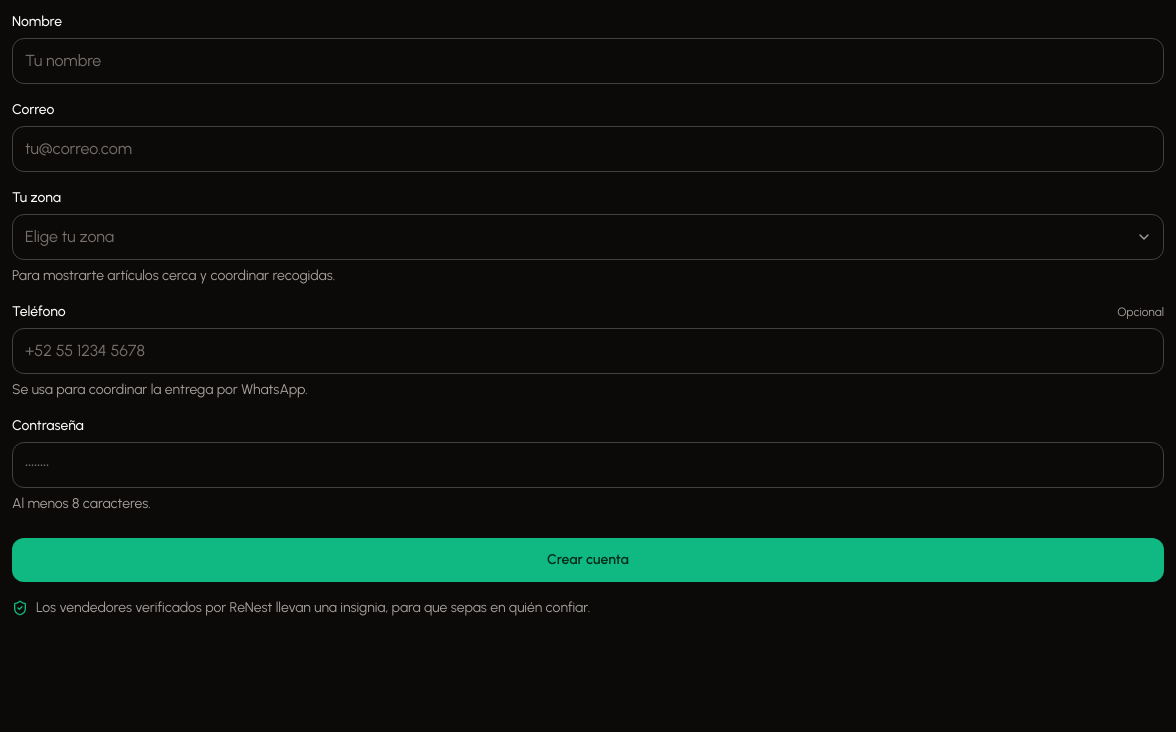
RegisterForm › shows field errors linked to their fields
Type "Camila Torres" into the field labelled "Nombre".
click(588, 61); type("Camila Torres")  # box [12, 38, 1164, 84]
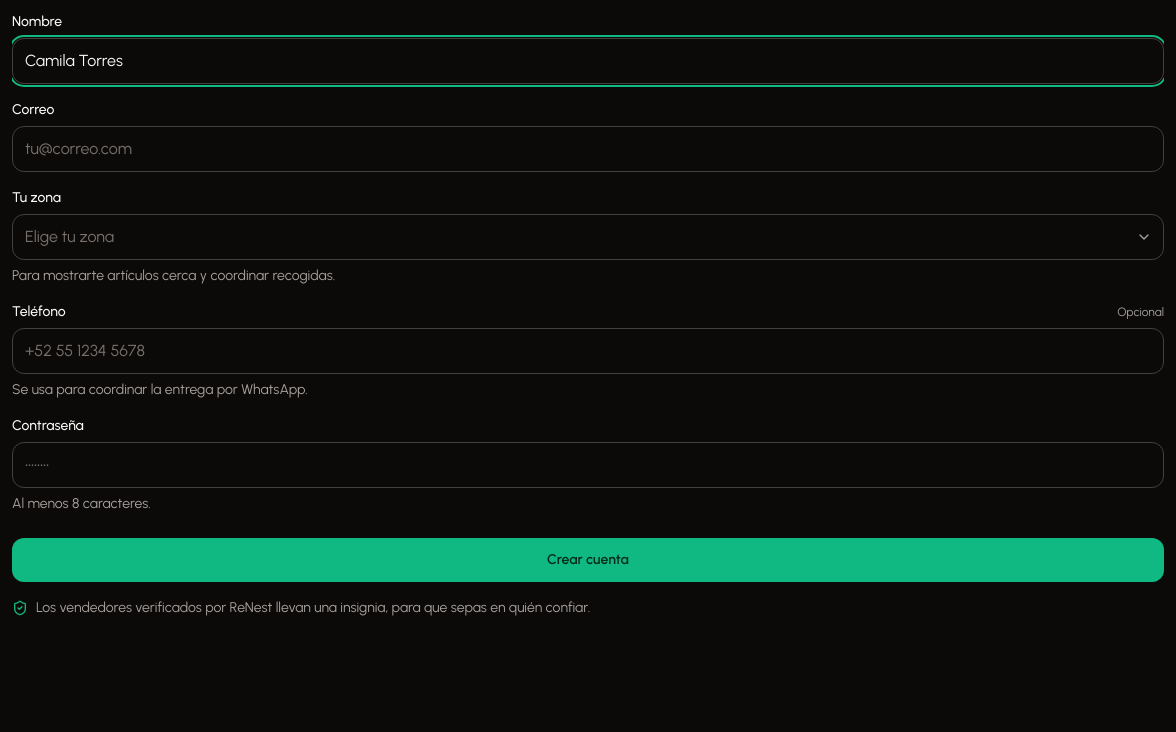
Type "camila@renest.app" into the field labelled "Correo".
click(588, 149); type("camila@renest.app")  # box [12, 126, 1164, 172]
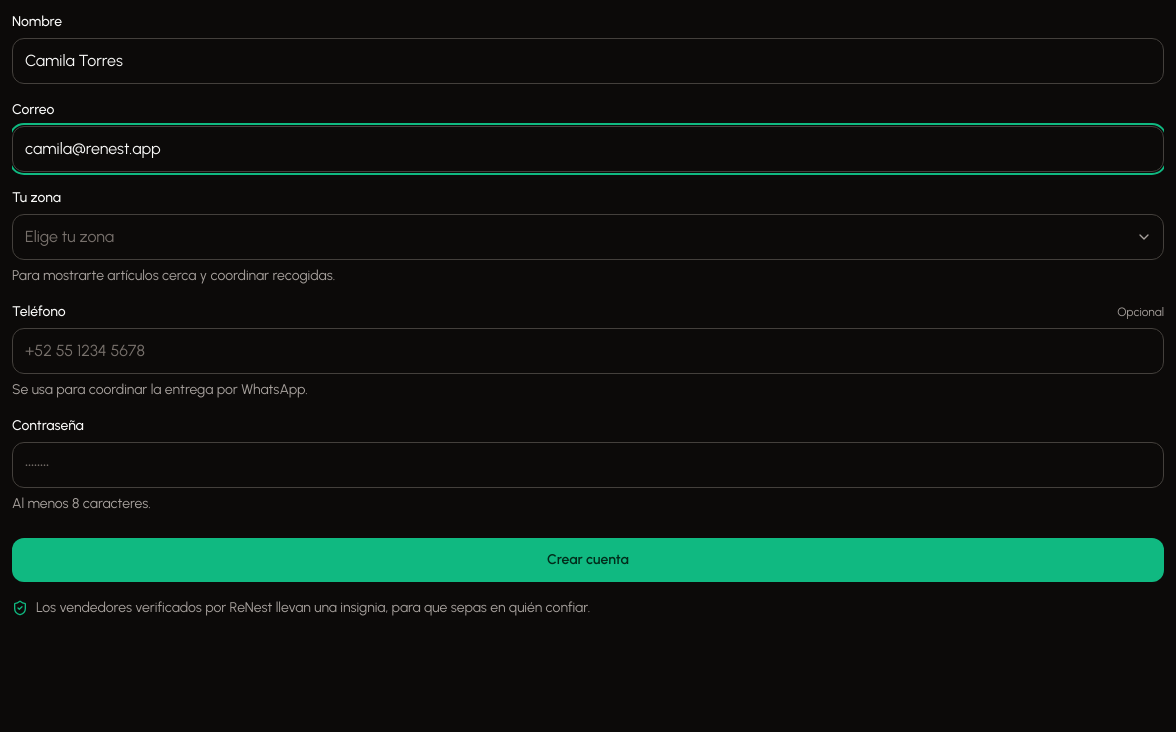
Select "Palermo, Buenos Aires" in the dropdown labelled "Tu zona" at point(588, 237), box [12, 214, 1164, 260]
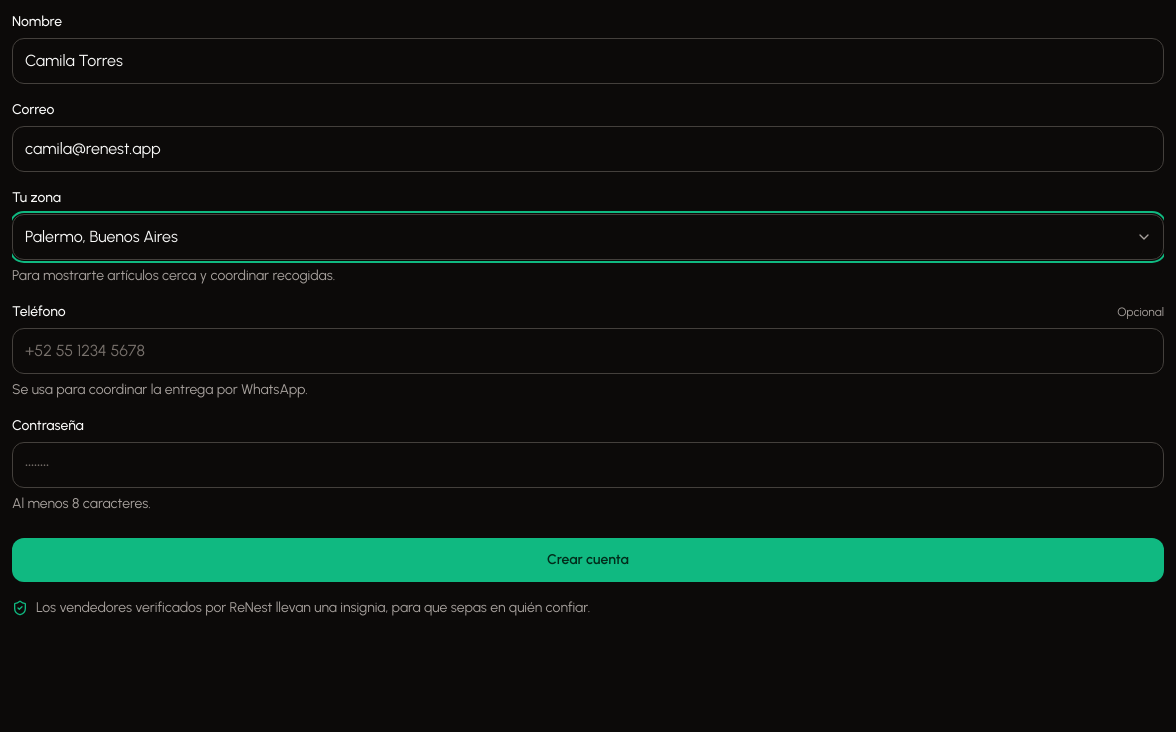
Type "+54 9 11 2345 6789" into the field labelled "Teléfono".
click(588, 351); type("+54 9 11 2345 6789")  # box [12, 328, 1164, 374]
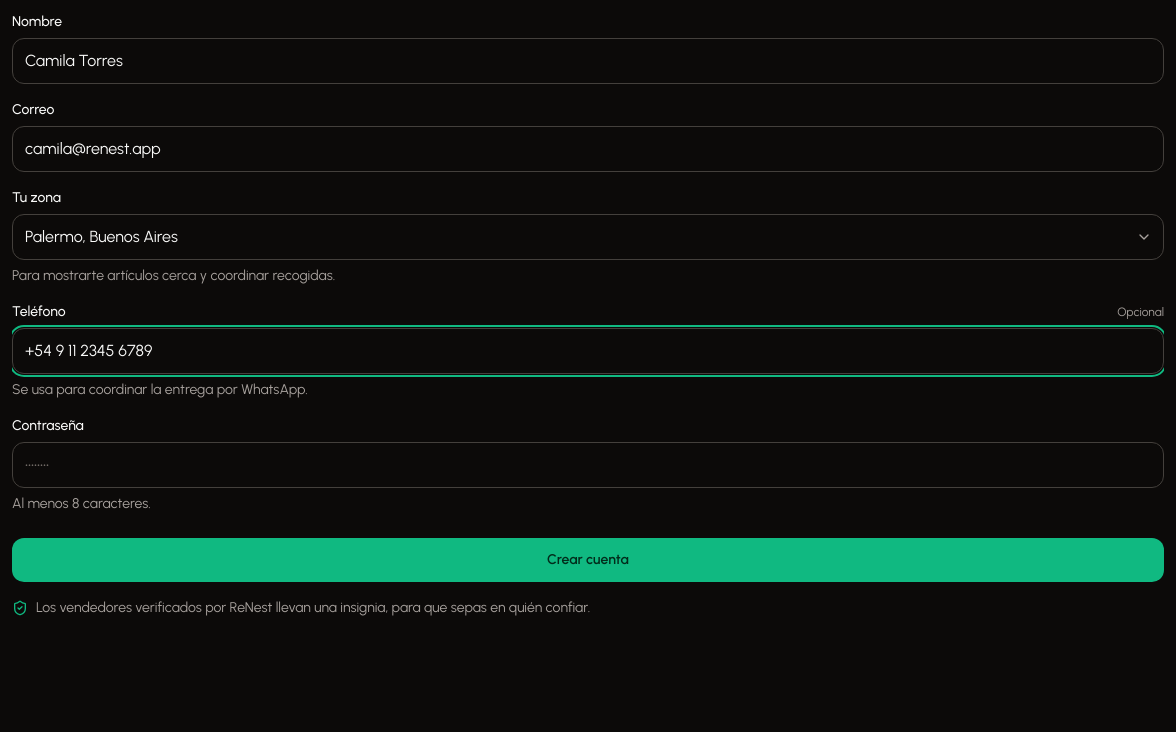
Type "secret123" into the password field labelled "Contraseña".
click(588, 465); type("secret123")  # box [12, 442, 1164, 488]
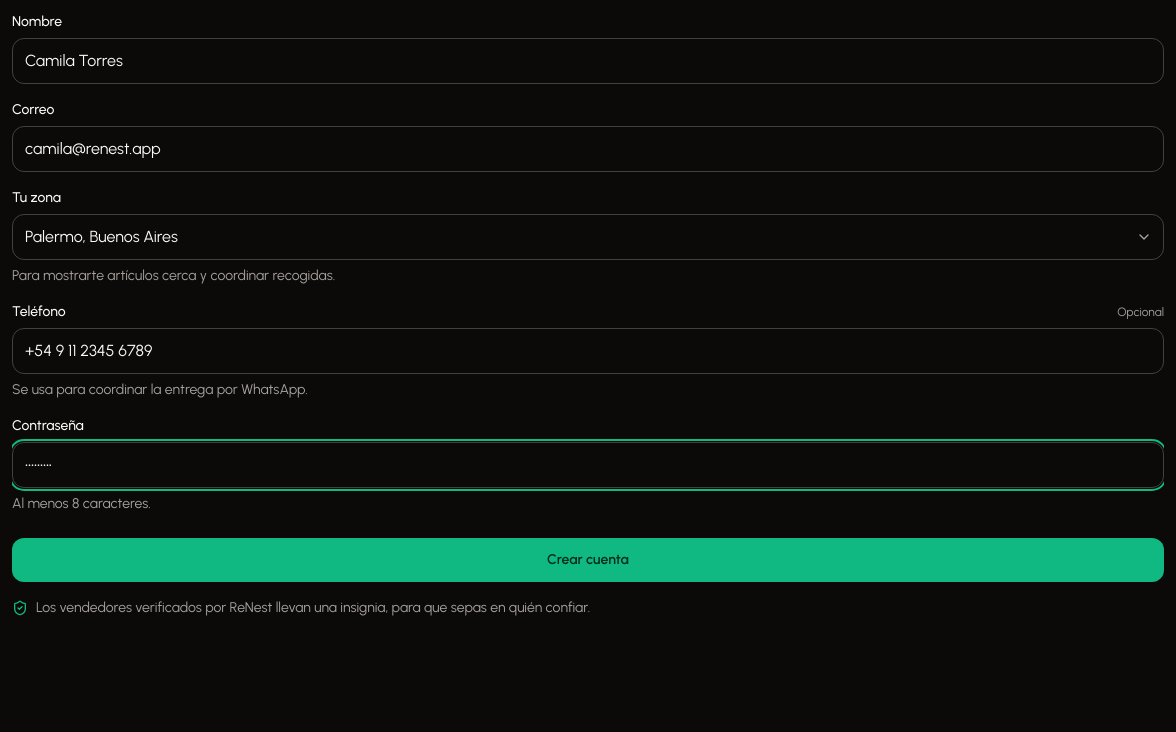
Click the button "Crear cuenta".
click(588, 560)  # box [12, 538, 1164, 582]
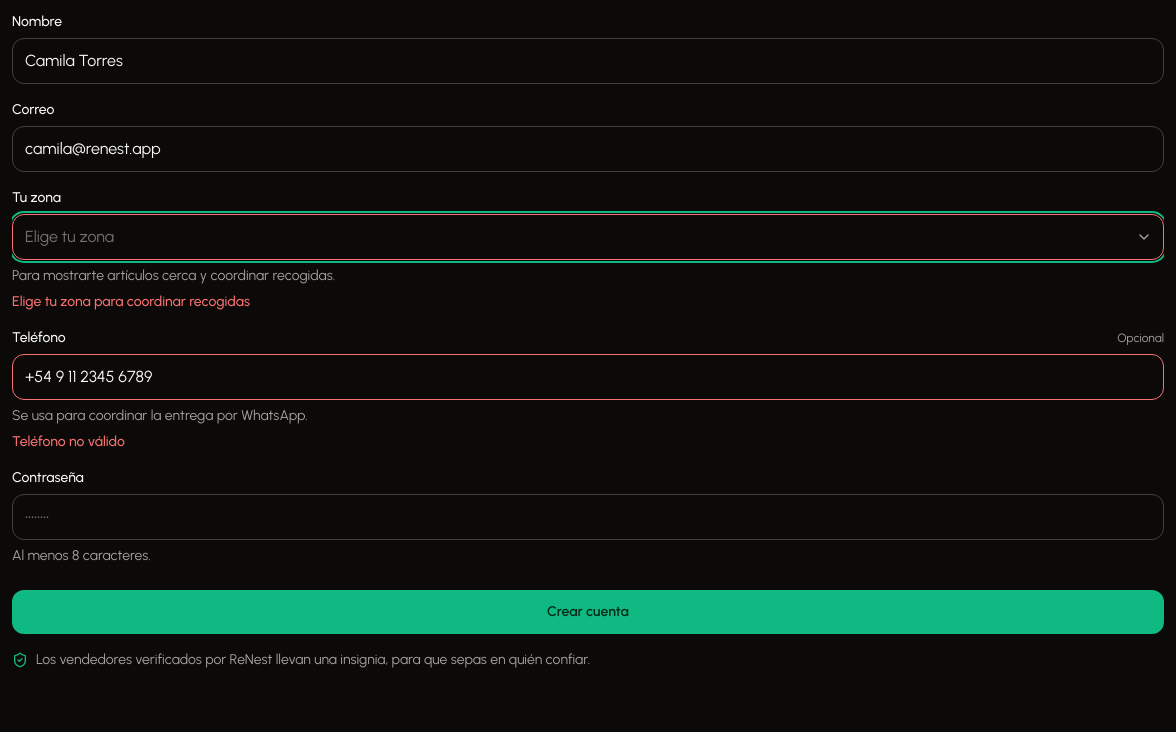
Expected: the text "Teléfono no válido" is shown, [12, 433, 125, 450]
